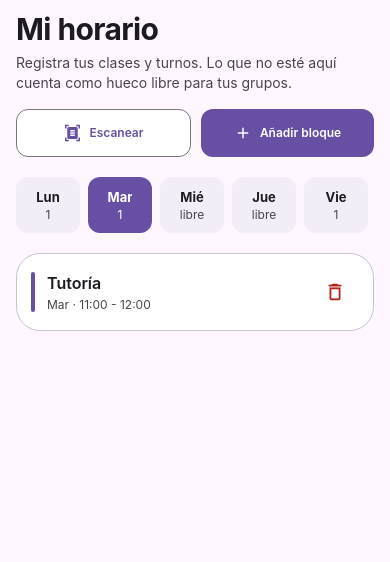
Test: arranca en hoy (martes) y muestra un puntual de esta semana en su día
Expected: the text "Tutoría" is shown, [47,272,101,292]
Click the text "Vie" at point(336, 196), box [326,188,346,206]
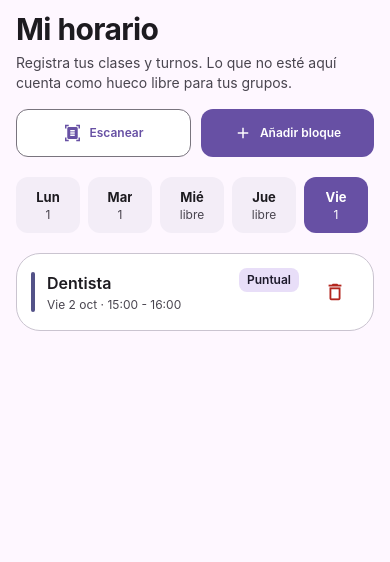
Expected: the text "Dentista" is shown, [47,272,111,292]
Expected: the text "Vie 2 oct · 15:00 - 16:00" is shown, [47,296,181,312]
Expected: the text "Puntual" is shown, [247,272,291,288]
Click the text "Jue" at point(264, 196), box [252,188,276,206]
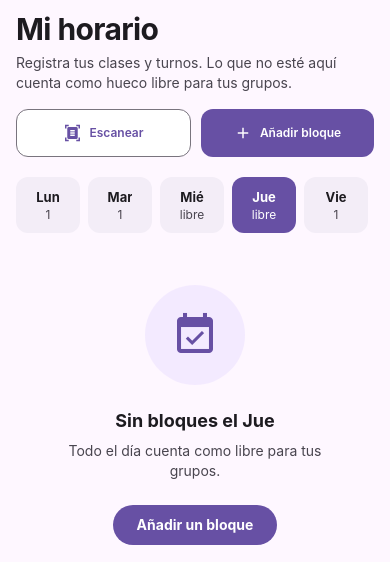
Expected: the text "Sin bloques el Jue" is shown, [115,409,275,433]
